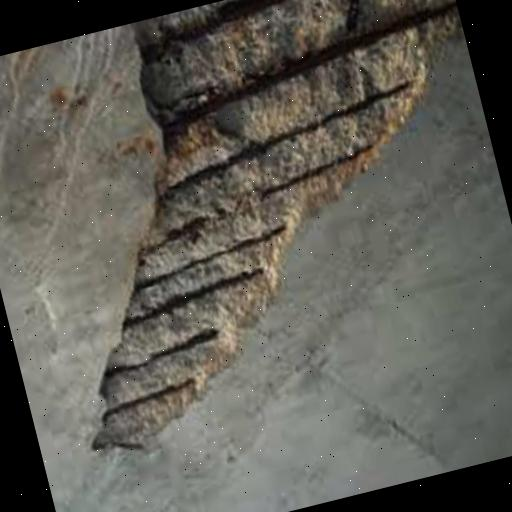spalling: (91, 0, 463, 448)
